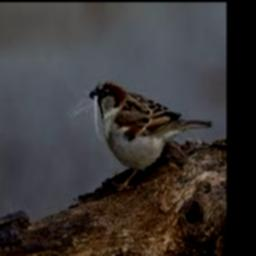Sparrow: (89, 79, 213, 190)
